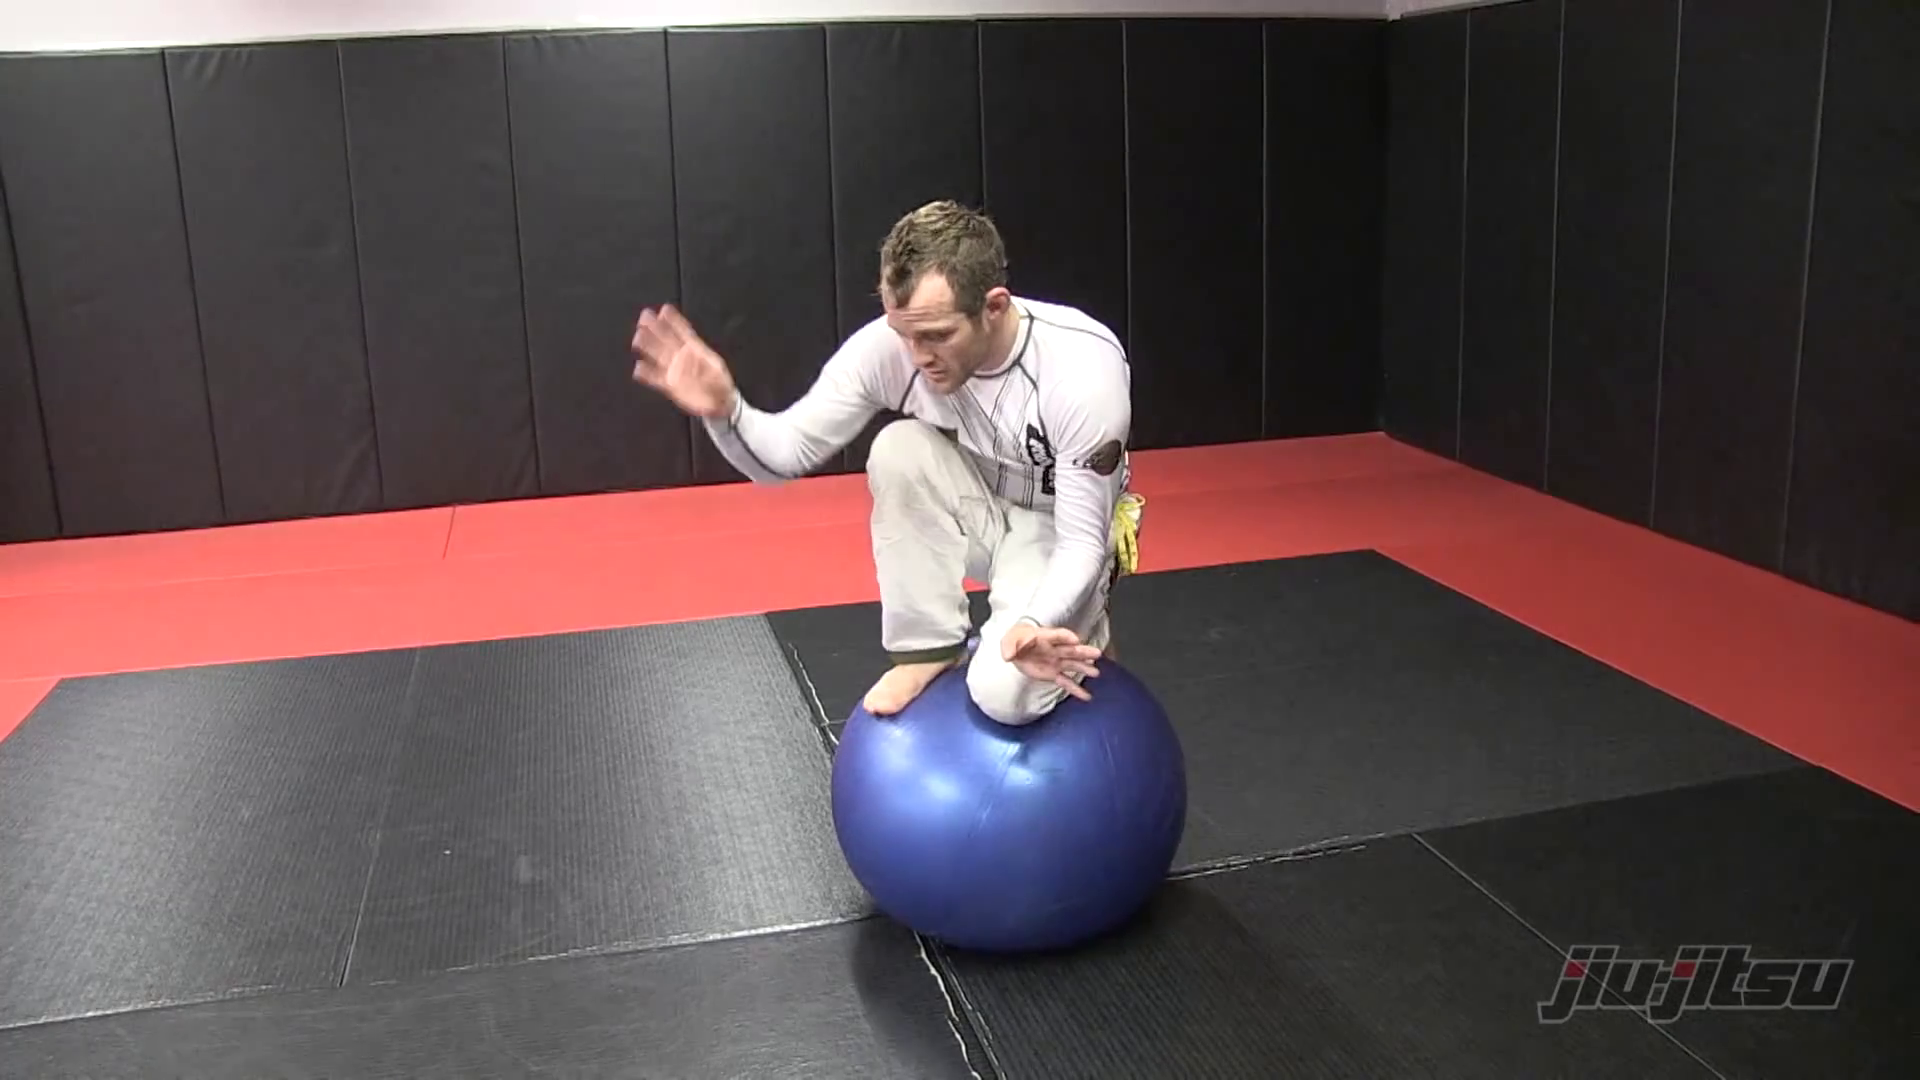yogaball: (811, 638, 1211, 984)
